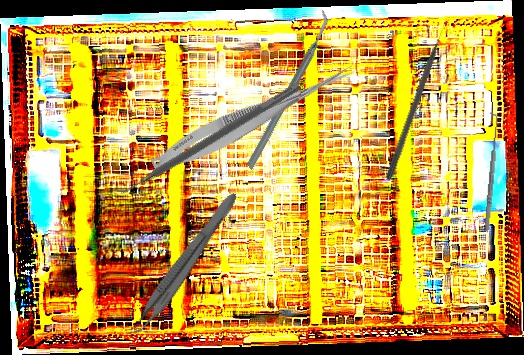Chopper: (200, 9, 374, 171)
Hook Surgical: (479, 112, 501, 233)
Micro Scissor: (147, 52, 359, 181)
Pusher: (384, 17, 452, 182)
Spatula Surgical: (112, 73, 302, 202)
Tissue Forceps: (123, 185, 241, 344)
